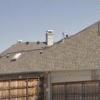Chimney: (40, 22, 62, 50)
